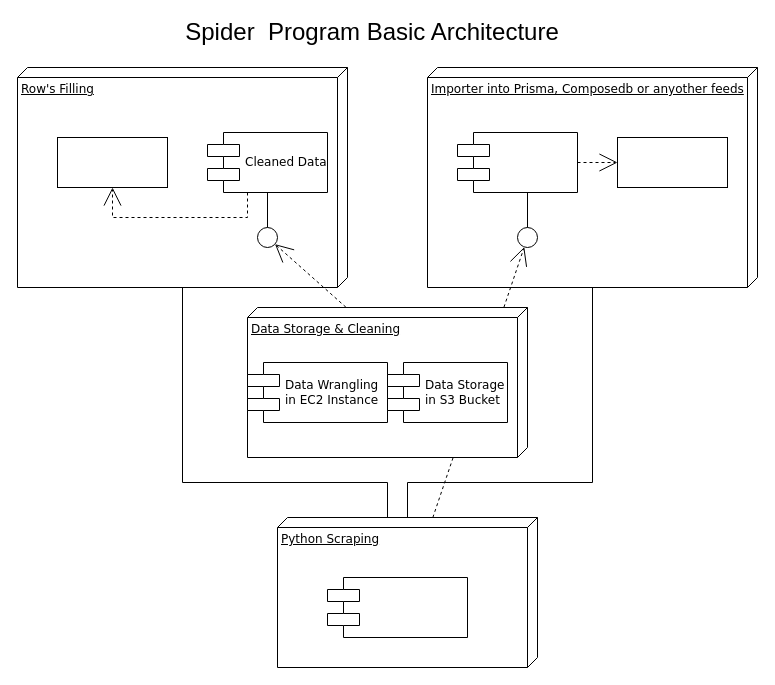
Image size: 775x685. Some labels were removed from this diagram. The centre of each missing label's shape, as x and y in pixels:
"Data Source [Bs4, Selenium , csv ]" belongs at pixel 397 607.
"Raw claim, store & publish" belongs at pixel 517 162.
"«Node and Edge Processor » For UI" belongs at pixel 672 162.
"«Trustclaim RDS» Database" belongs at pixel 112 162.
